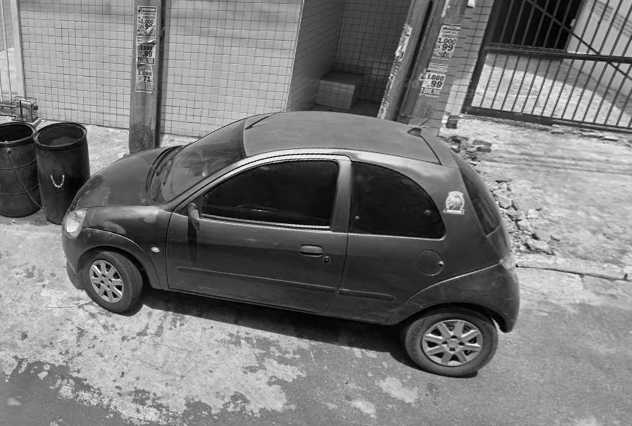car: (58, 87, 528, 380)
